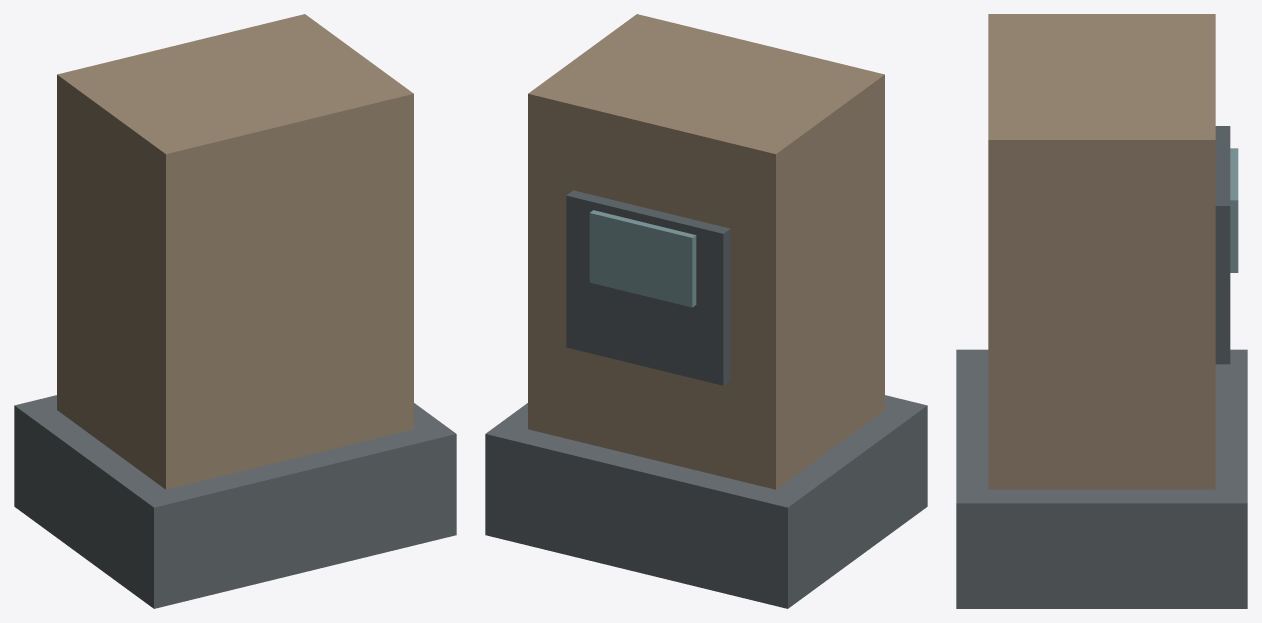
Rendered from iz3_production_filter_02.glb.
3 views of the same model, side by side, from view 1: azimuth 30°, elevation 25°; view 2: azimuth 150°, elevation 25°; view 3: azimuth 270°, elevation 25° (orthographic). The views are drawn at different scales.
Visible parts, largest first — view 1: cabinet, base; view 2: cabinet, base, panel, display; view 3: cabinet, base, panel, display.
Part boxes in pixels (x1,y1,x2,y2): cabinet: (57,14,413,489); base: (14,395,456,608); cabinet: (528,14,884,489); base: (485,395,927,608); panel: (566,190,730,385); display: (589,210,696,307); cabinet: (988,14,1215,489); base: (956,349,1247,608); panel: (1215,126,1230,364); display: (1230,148,1238,272).
Size of the model in its own units: 1 by 1.38 by 0.8.
